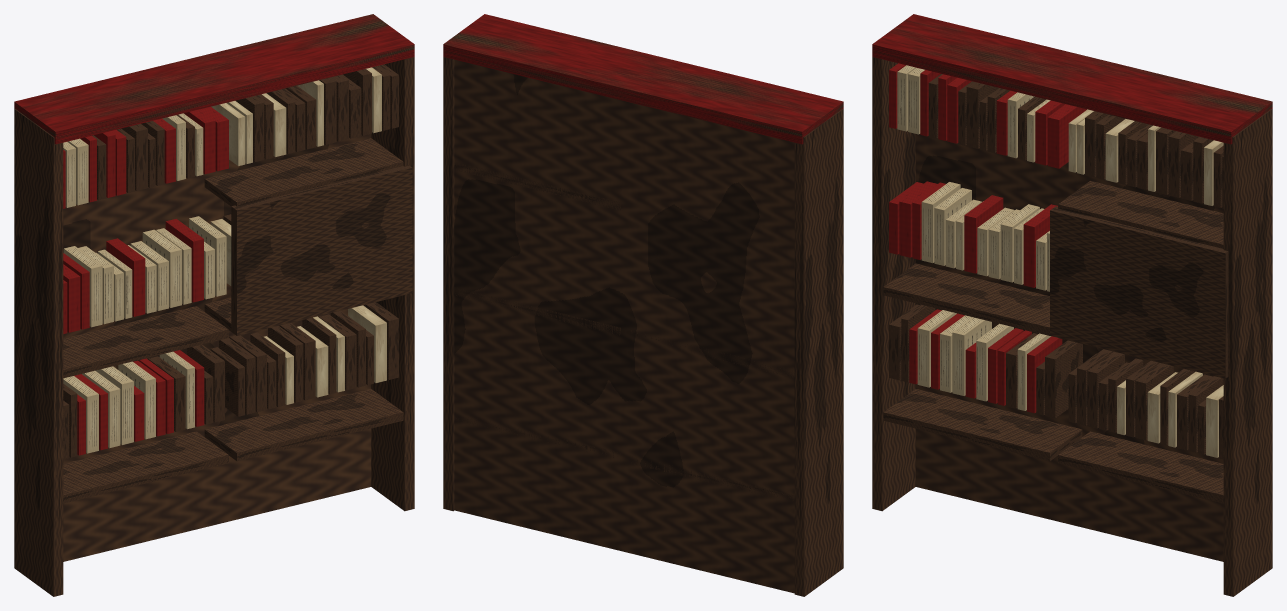
File: bookshelf.glb
The picture shows the model from 3 angles, left to right: view 1: azimuth 30°, elevation 25°; view 2: azimuth 150°, elevation 25°; view 3: azimuth 330°, elevation 25°; orthographic projection.
Parts seen in each view (by area): view 1: Back, SecretPanel, Side_-88, Top, Side_88, ShelfR0, ShelfR2, ShelfL1, ShelfL0, BookL1_-47, BookL1_-28, BookR0_73 (+71 smaller); view 2: Back, Side_-88, Top, Side_88, ShelfR2, ShelfR1, ShelfL0; view 3: Back, SecretPanel, Side_88, Top, Side_-88, ShelfL0, ShelfL1, ShelfR0, ShelfR2, BookL0_-6, BookL0_-53, BookL2_-5 (+67 smaller).
Boxes of the visible parts, x1,y1,x2,y2 form: Back: [63, 134, 371, 561]; SecretPanel: [231, 165, 412, 335]; Side_-88: [14, 109, 63, 596]; Top: [14, 14, 414, 144]; Side_88: [371, 57, 414, 511]; ShelfR0: [204, 389, 403, 461]; ShelfR2: [204, 138, 403, 206]; ShelfL1: [63, 306, 228, 378]; ShelfL0: [63, 431, 228, 503]; BookL1_-47: [106, 238, 145, 316]; BookL1_-28: [142, 229, 181, 307]; BookR0_73: [348, 305, 386, 382]; Back: [454, 59, 794, 593]; Side_-88: [794, 109, 843, 596]; Top: [443, 14, 843, 144]; Side_88: [443, 57, 454, 511]; ShelfR2: [454, 162, 620, 210]; ShelfR1: [455, 287, 620, 335]; ShelfL0: [631, 457, 794, 501]; Back: [915, 134, 1223, 561]; SecretPanel: [1050, 206, 1228, 378]; Side_88: [1223, 109, 1272, 596]; Top: [872, 14, 1272, 144]; Side_-88: [872, 57, 915, 511]; ShelfL0: [883, 389, 1082, 461]; ShelfL1: [883, 263, 1049, 335]; ShelfR0: [1058, 431, 1223, 503]; ShelfR2: [1058, 181, 1223, 248]; BookL0_-6: [1045, 340, 1082, 418]; BookL0_-53: [952, 317, 991, 395]; BookL2_-5: [1047, 104, 1086, 168].
Size of what is drawn, in the model's own units: 1.81 by 2.23 by 0.375.
Materials: 5 (5 with a texture image).
